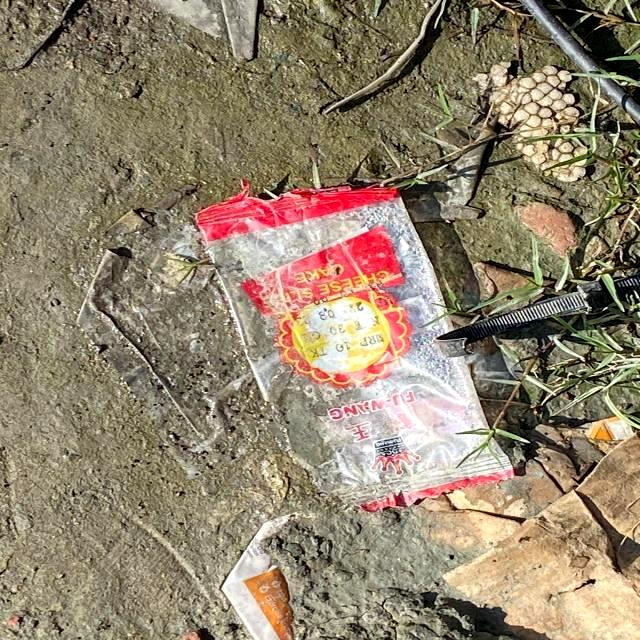packet: (246, 188, 459, 504)
